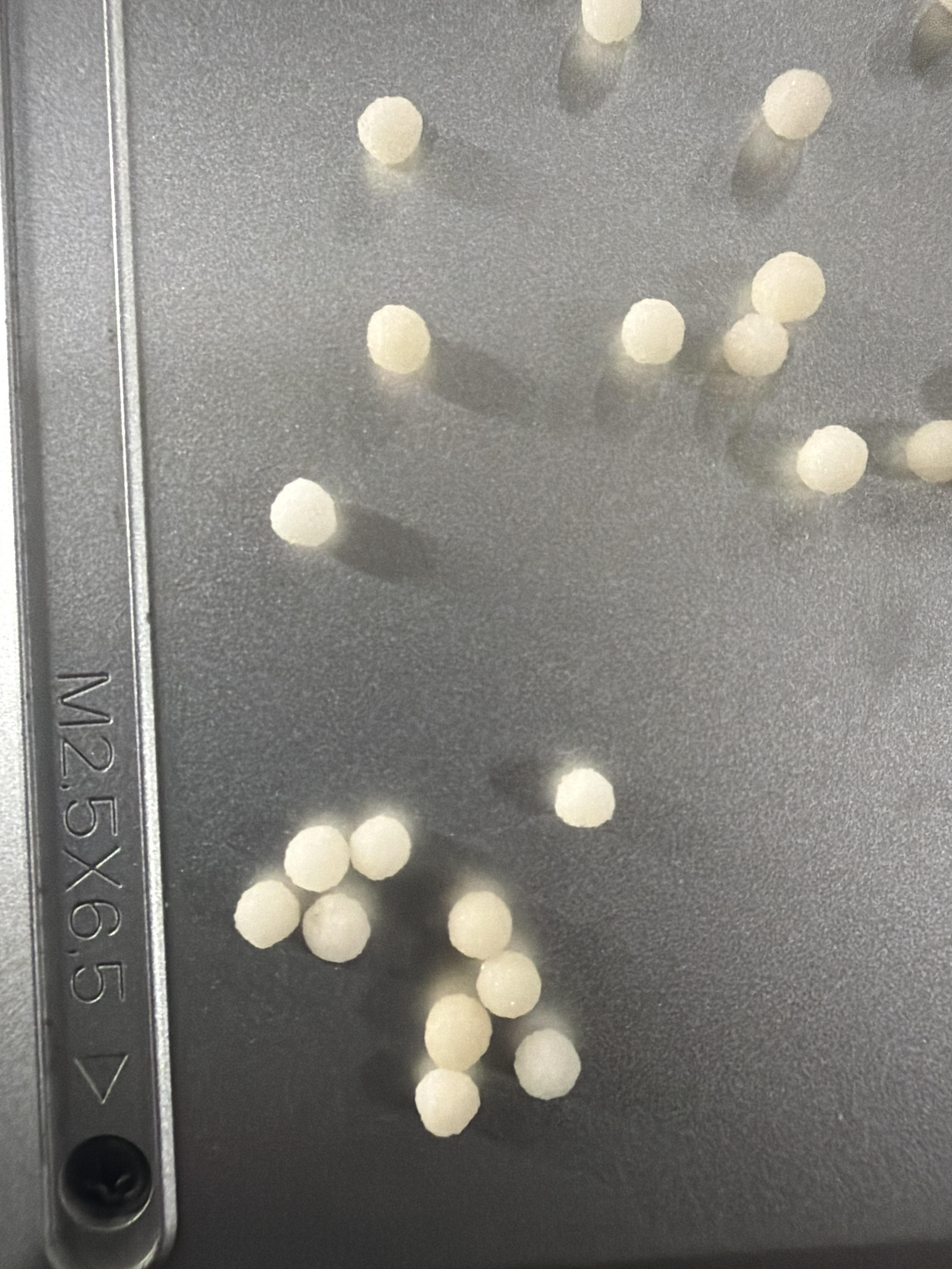pill: (906, 0, 952, 483), (751, 251, 825, 323), (424, 994, 492, 1071), (796, 425, 868, 494), (762, 69, 831, 140), (302, 892, 370, 963), (514, 1029, 581, 1099), (270, 478, 337, 547), (234, 879, 300, 948), (357, 96, 422, 165), (476, 950, 541, 1018), (448, 891, 512, 960), (367, 305, 431, 374), (284, 825, 349, 892), (415, 1069, 479, 1137), (722, 313, 789, 377), (621, 298, 685, 365), (350, 815, 411, 880), (554, 768, 615, 827), (582, 0, 642, 44)
